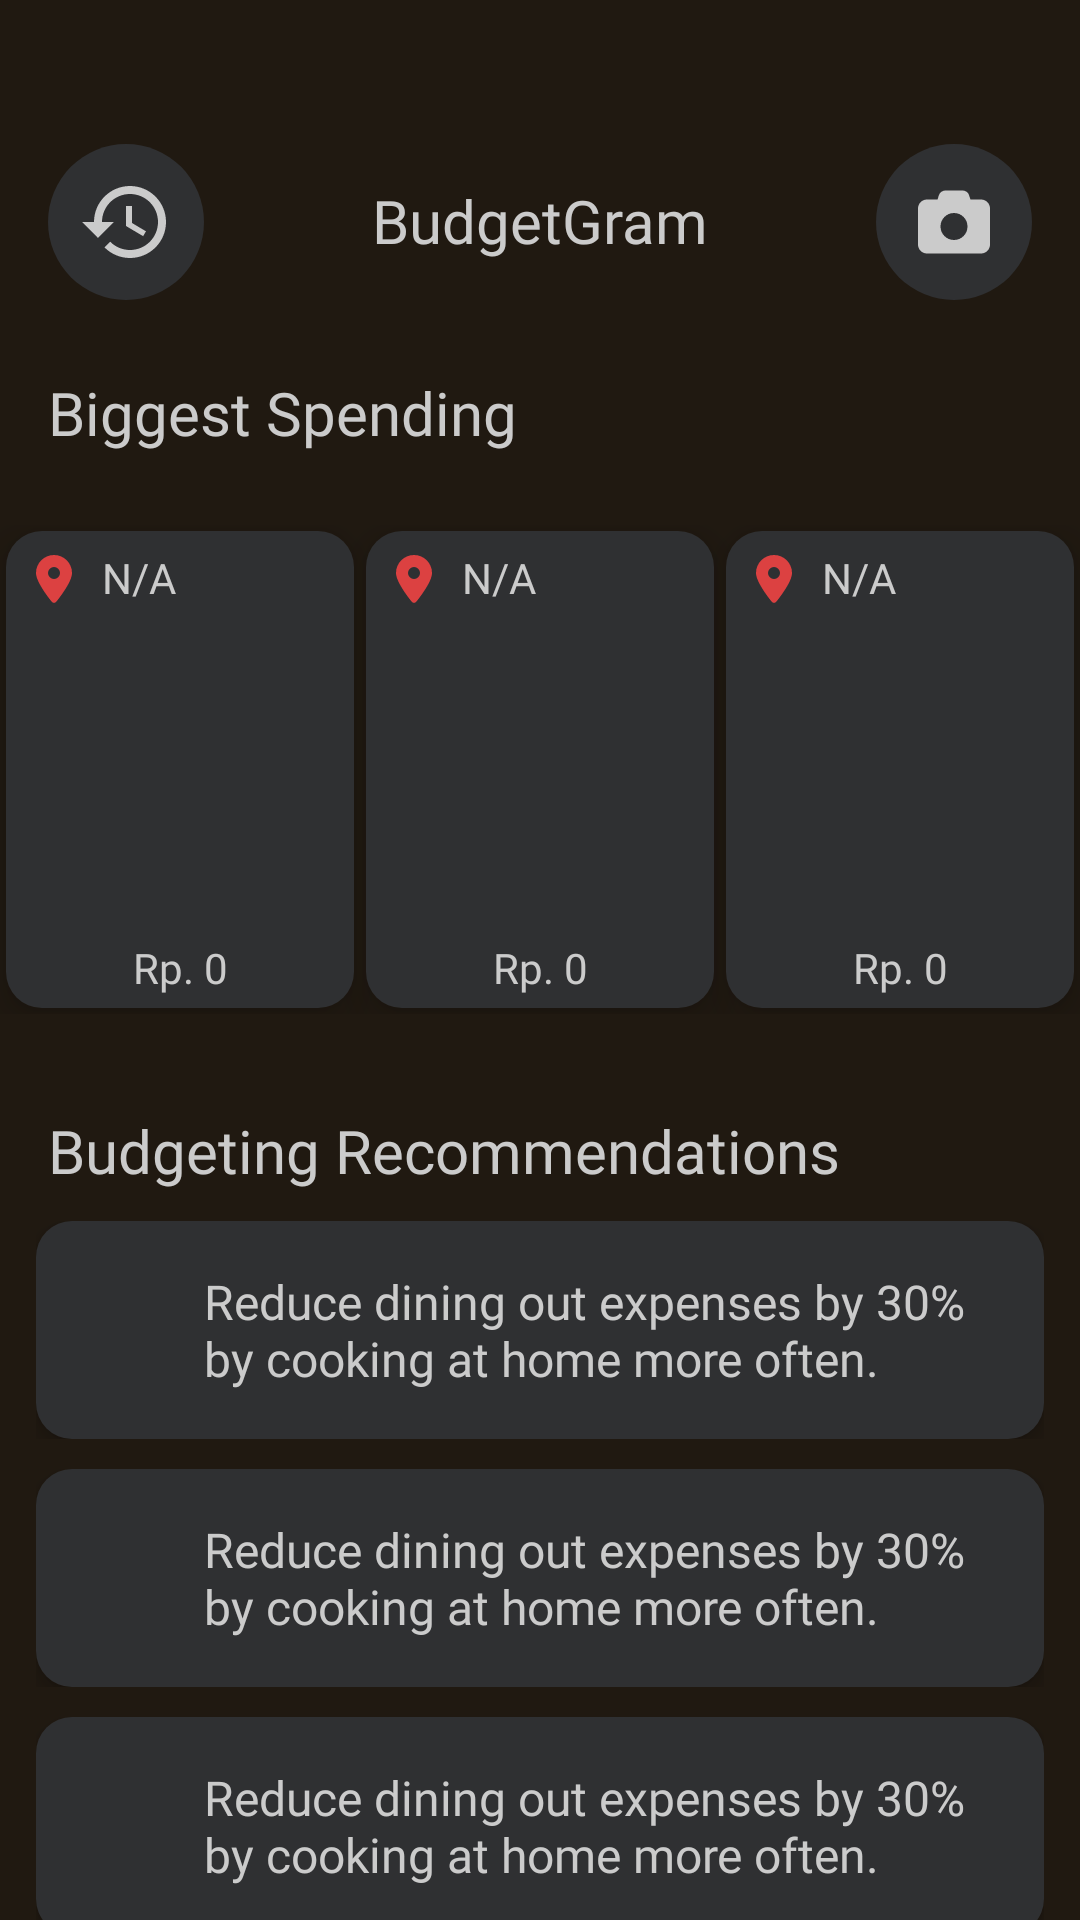

Screen size 1080 × 1920. Icon name, then its center in pixels as (x,y):
camera: (954,222)
history: (126,222)
location dot: (54,579), (414,579), (774,579)
